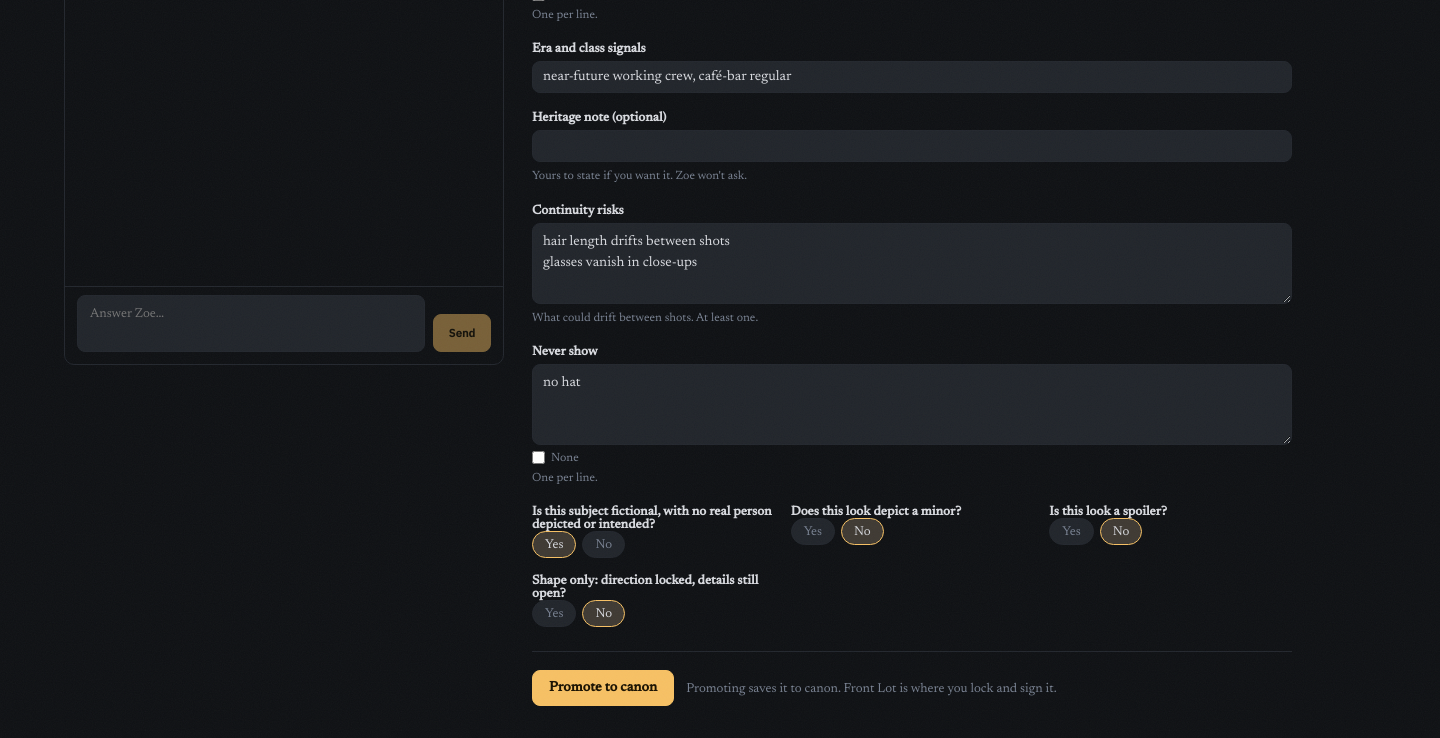
Test: Promote › a failed export write offers Re-export
(page scrolled)
Click the button "Promote to canon" at {"x": 603, "y": 688}, box [532, 670, 674, 706]
(page scrolled)
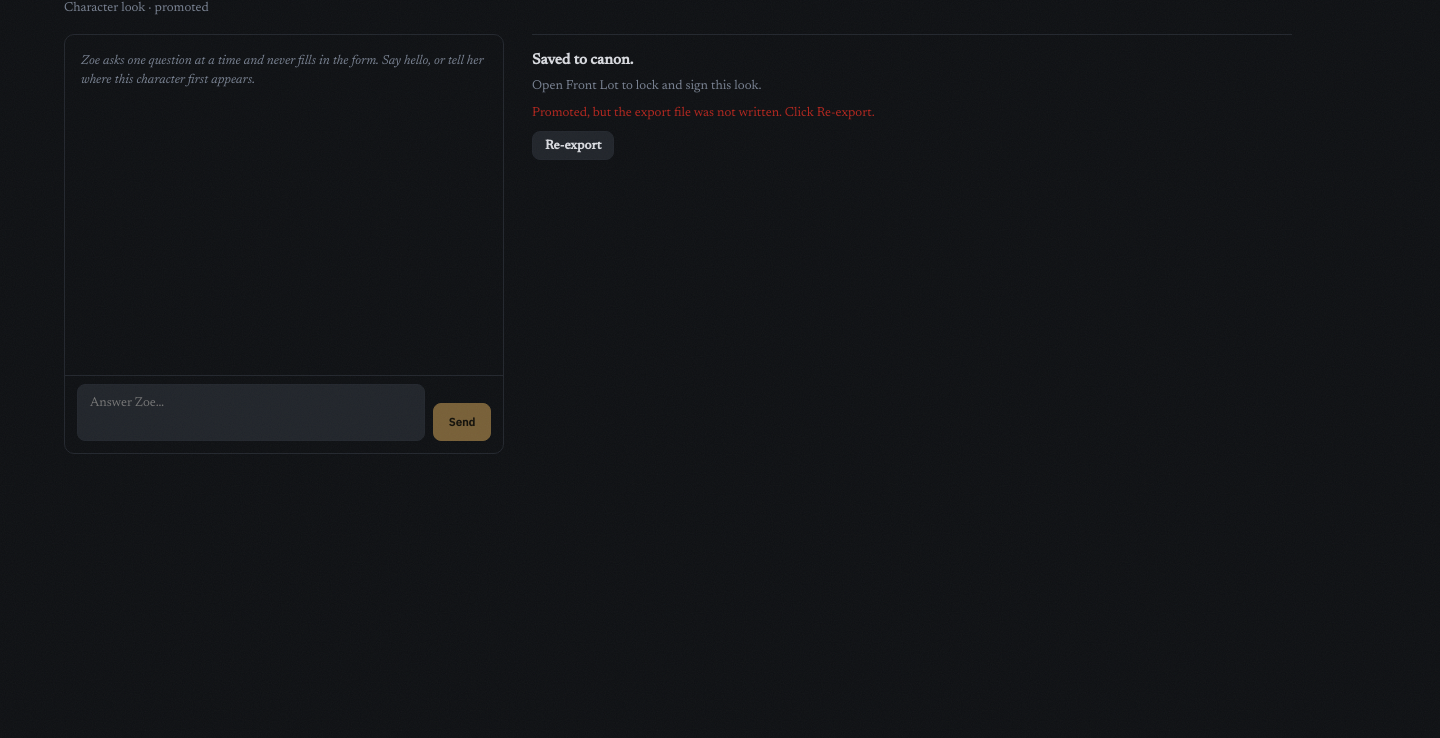
Result: the text "Promoted, but the export file was not written. Click Re-export." is shown at [532, 106, 875, 119]
Click the button "Re-export" at {"x": 573, "y": 145}, box [532, 130, 614, 160]
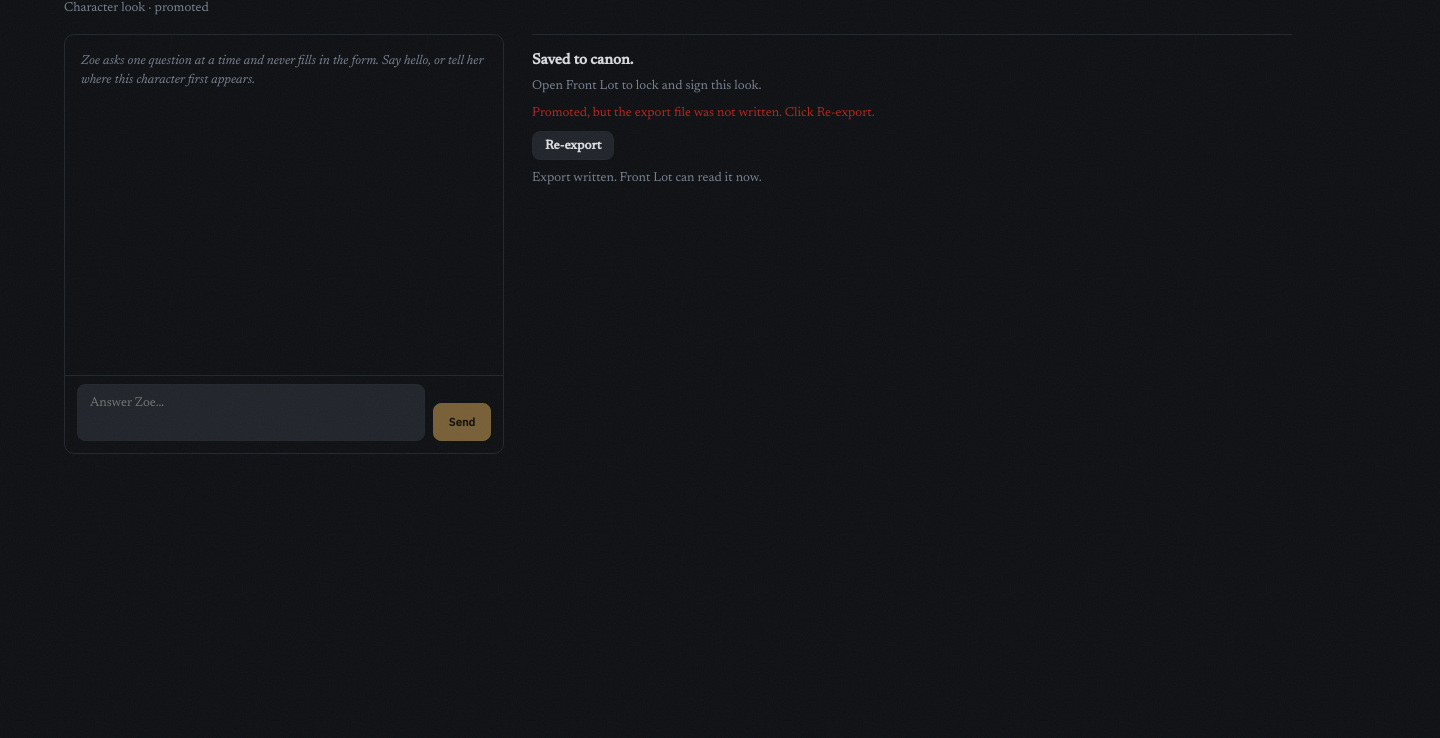
Result: the text "Export written. Front Lot can read it now." is shown at [532, 170, 762, 184]
